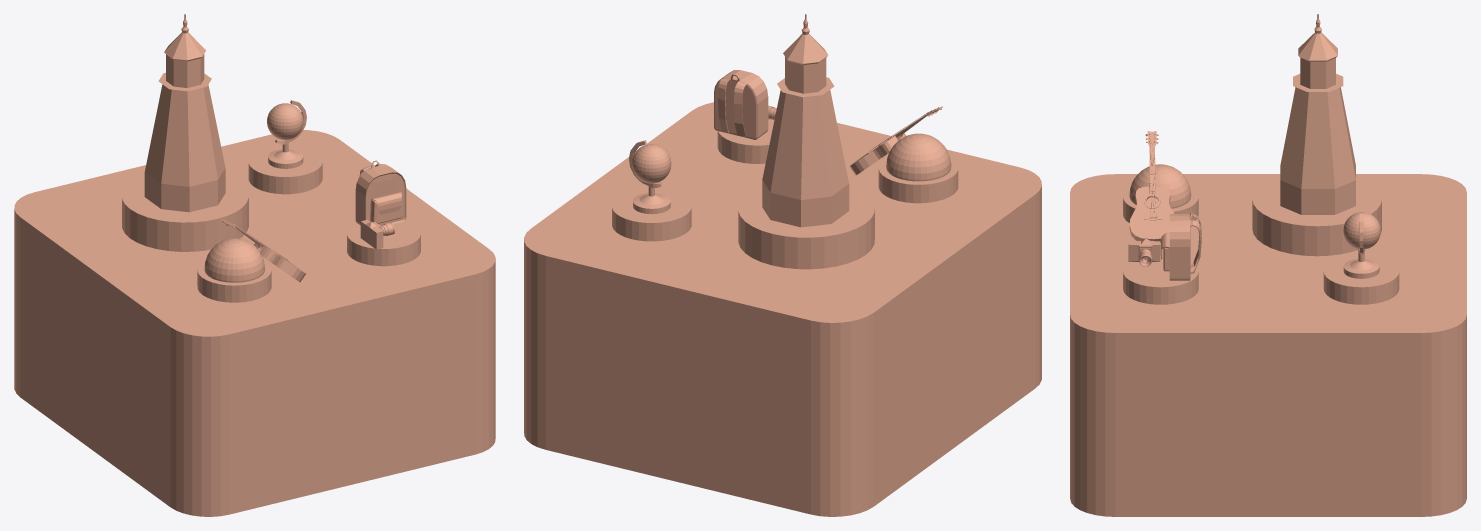
Rendered from model3-travel15-joined.glb.
3 renders of one model, left to right at view 1: azimuth 30°, elevation 25°; view 2: azimuth 150°, elevation 25°; view 3: azimuth 270°, elevation 25°, orthographic. The views are drawn at different scales.
Visible parts, largest first — view 1: Cube; view 2: Cube; view 3: Cube.
Part boxes in pixels (<box>): Cube: <box>14,14,495,516</box>; Cube: <box>524,14,1041,516</box>; Cube: <box>1070,14,1466,516</box>.
Bounding box in the file's own units: 9.92 × 11.66 × 10.47.
